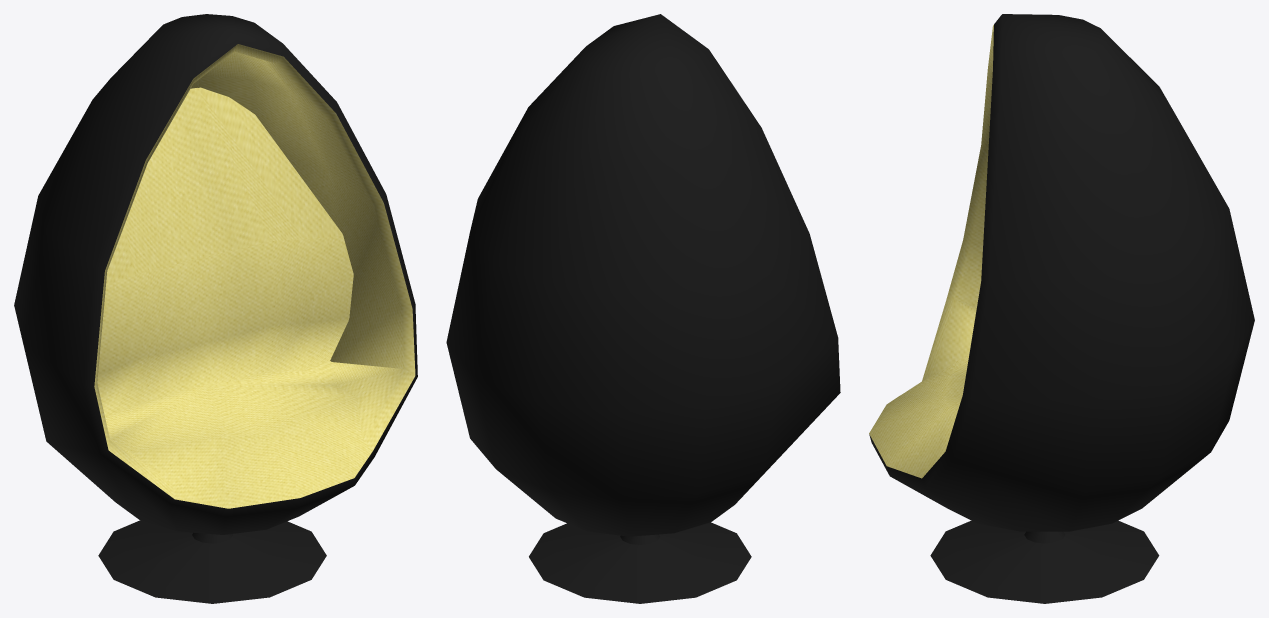
The model's file is Eggchair_B_11.FBX.
3 renders of one model, left to right at view 1: azimuth 30°, elevation 25°; view 2: azimuth 150°, elevation 25°; view 3: azimuth 270°, elevation 25°, orthographic. The views are drawn at different scales.
Parts seen in each view (by area): view 1: Egg_chair; view 2: Egg_chair; view 3: Egg_chair.
Boxes of the visible parts, x1,y1,x2,y2 form: Egg_chair: (14, 14, 417, 603); Egg_chair: (446, 14, 840, 603); Egg_chair: (869, 14, 1254, 603).
Size of the model in its own units: 168 by 261 by 169.
